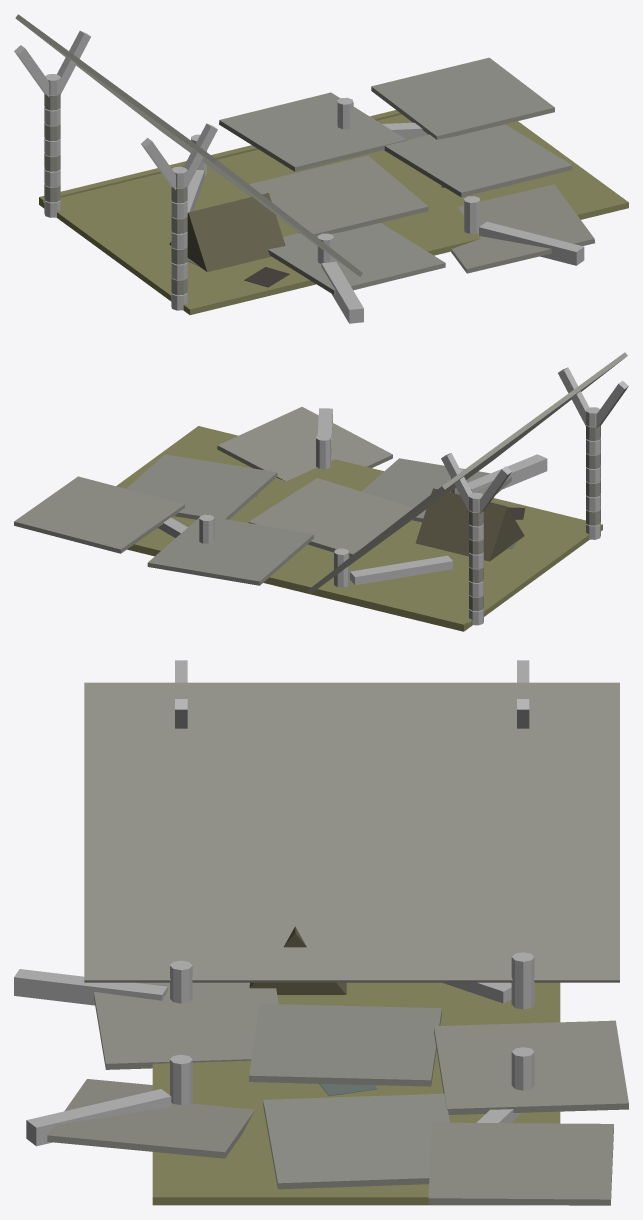
The model's file is SM_MarquesinaBus_v3_Lonas_e2_MuyDanado_LOD0.fbx.
3 views of the same model, one above another, from view 1: azimuth 30°, elevation 25°; view 2: azimuth 150°, elevation 25°; view 3: azimuth 270°, elevation 25° (orthographic). The views are drawn at different scales.
Visible parts, largest first — view 1: SM_marquesina_bus_v14_LOD0; view 2: SM_marquesina_bus_v14_LOD0; view 3: SM_marquesina_bus_v14_LOD0.
Boxes of the visible parts, bbox=[...] form: SM_marquesina_bus_v14_LOD0: bbox=[14, 14, 628, 323]; SM_marquesina_bus_v14_LOD0: bbox=[14, 352, 628, 631]; SM_marquesina_bus_v14_LOD0: bbox=[14, 660, 628, 1205].
Bounding box in the file's own units: 13.82 × 4.63 × 10.79.
